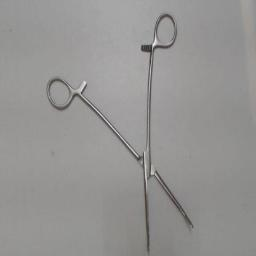Lahey Forceps: (42, 8, 198, 254)
